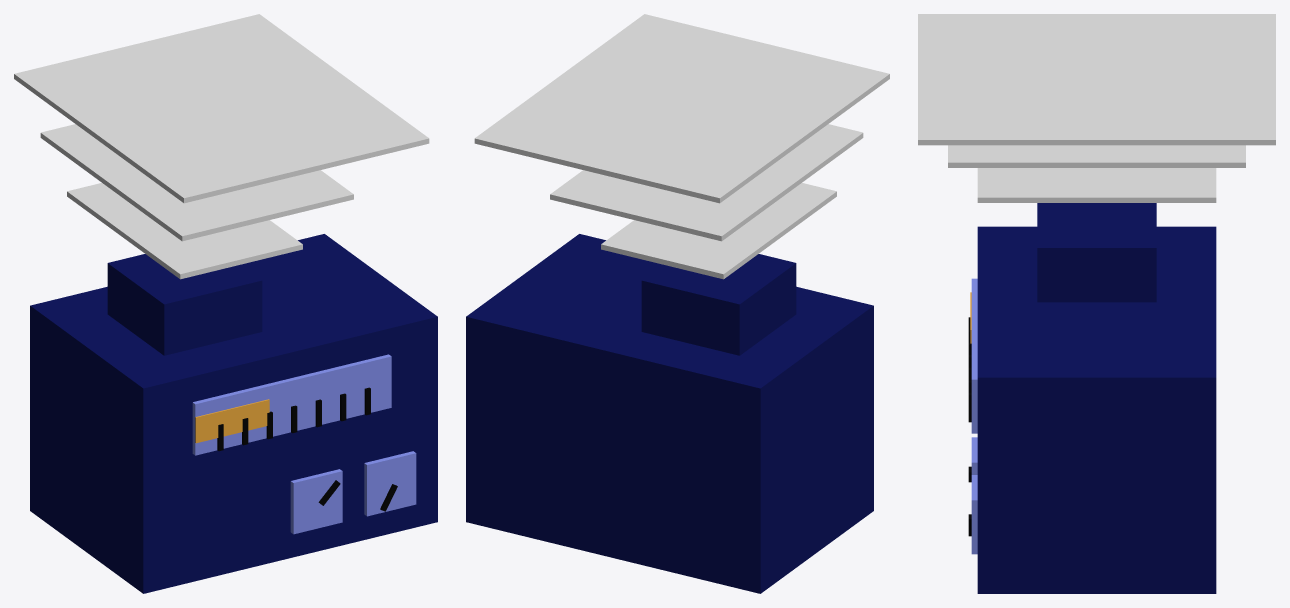
File: GravityMaker.fbx
The picture shows the model from 3 angles, left to right: view 1: azimuth 30°, elevation 25°; view 2: azimuth 150°, elevation 25°; view 3: azimuth 270°, elevation 25°; orthographic projection. The views are drawn at different scales.
Visible parts, largest first — view 1: Cube.001, Cube.005, Cube.002, Cube.004, Cube.018, Cube.003, Cube.014, Cube.015, Cube.006; view 2: Cube.001, Cube.005, Cube.002, Cube.004, Cube.003; view 3: Cube.001, Cube.005, Cube.002, Cube.003, Cube.004, Cube.018, Cube.014.
Boxes of the visible parts, x1,y1,x2,y2 form: Cube.001: [30, 234, 437, 593]; Cube.005: [14, 14, 429, 203]; Cube.002: [107, 254, 262, 355]; Cube.004: [40, 124, 353, 241]; Cube.018: [192, 354, 391, 455]; Cube.003: [67, 183, 302, 279]; Cube.014: [364, 451, 416, 516]; Cube.015: [290, 469, 342, 534]; Cube.006: [195, 399, 269, 443]; Cube.001: [466, 234, 873, 593]; Cube.005: [474, 14, 889, 203]; Cube.002: [641, 254, 796, 355]; Cube.004: [550, 124, 863, 241]; Cube.003: [601, 183, 836, 279]; Cube.001: [977, 226, 1216, 593]; Cube.005: [918, 14, 1275, 145]; Cube.002: [1037, 203, 1156, 302]; Cube.003: [977, 168, 1216, 202]; Cube.004: [948, 145, 1245, 167]; Cube.018: [971, 278, 977, 433]; Cube.014: [971, 475, 977, 554].
Size of the model in its own units: 120 by 161 by 120.
